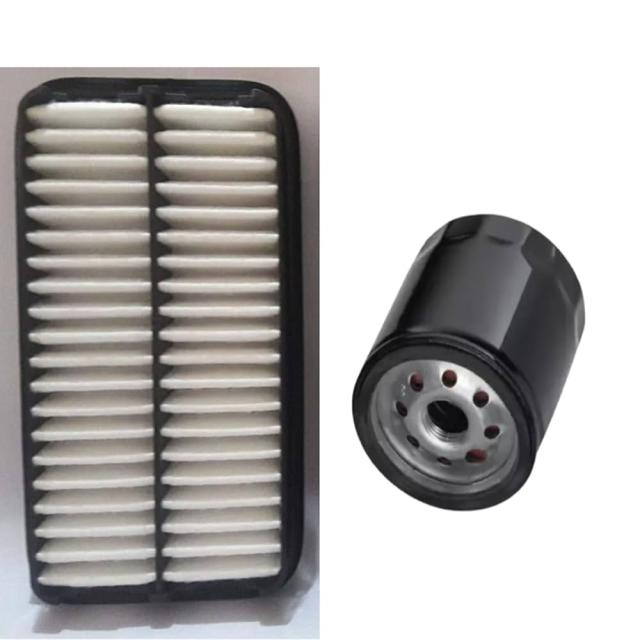air_filter: (21, 59, 324, 608)
oil_filter: (347, 197, 589, 513)
